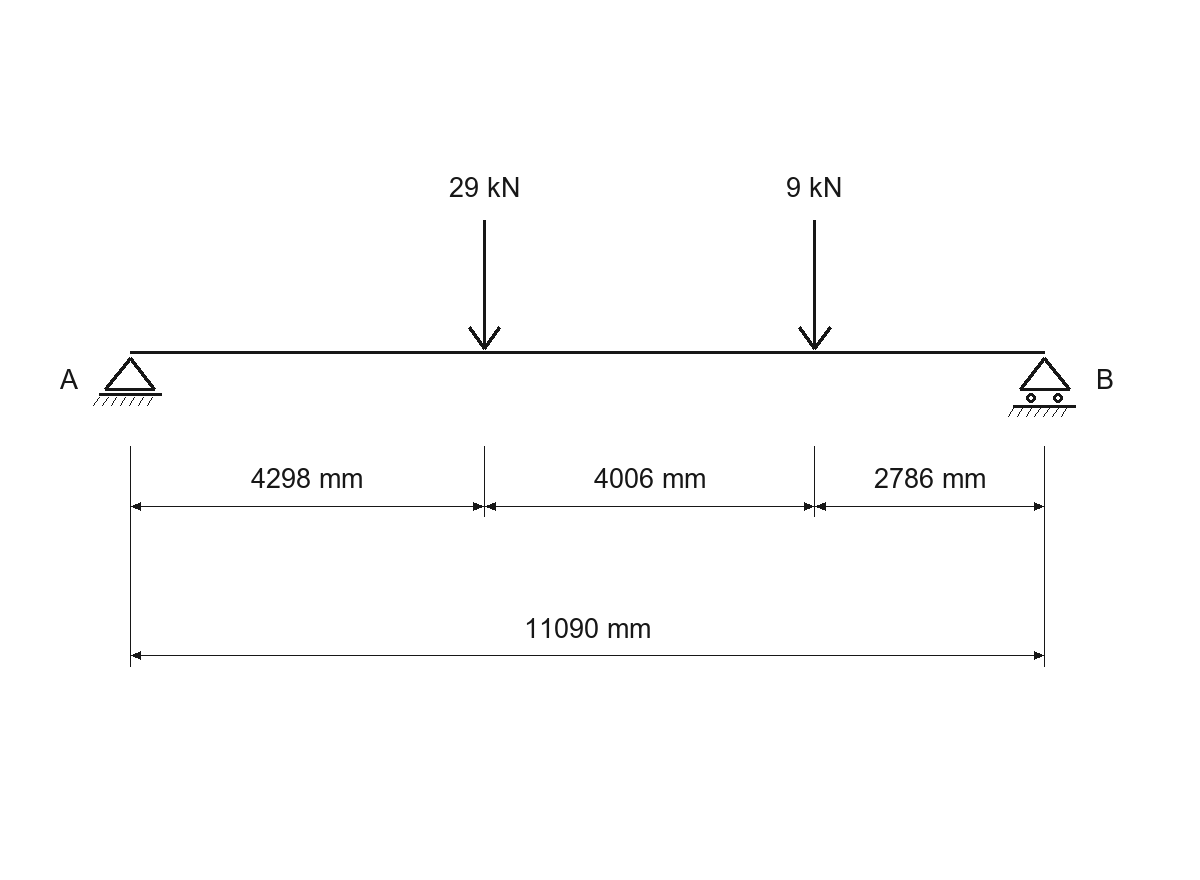pin_support: (93, 357, 162, 406)
point_load: (798, 220, 832, 350), (468, 220, 501, 350)
roller_support: (1008, 357, 1076, 417)
